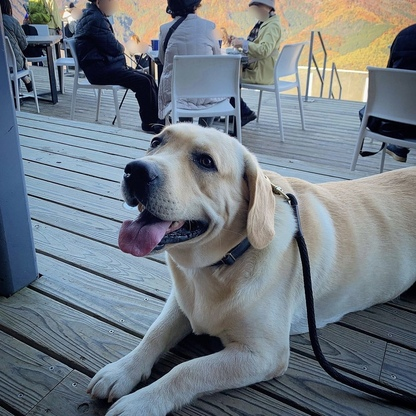labrado: (80, 118, 416, 415)
